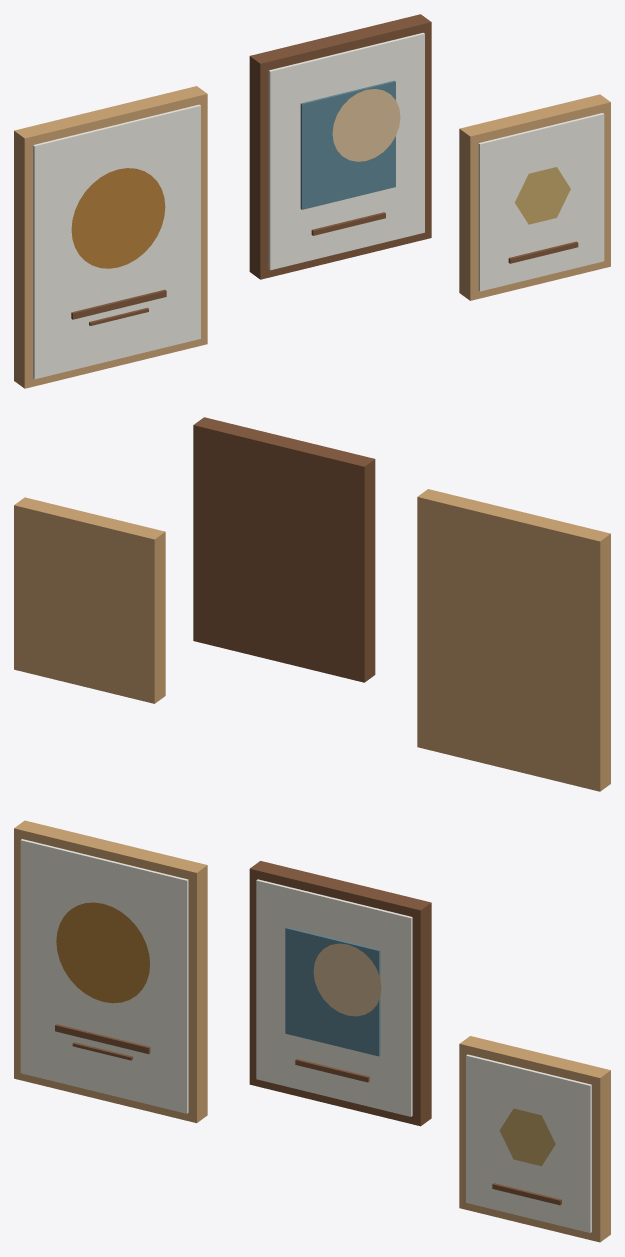
File: frames.glb
3 renders of one model, top to bottom at view 1: azimuth 30°, elevation 25°; view 2: azimuth 150°, elevation 25°; view 3: azimuth 330°, elevation 25°, orthographic.
Size of the model in its own units: 2.5 by 1.18 by 0.11.
